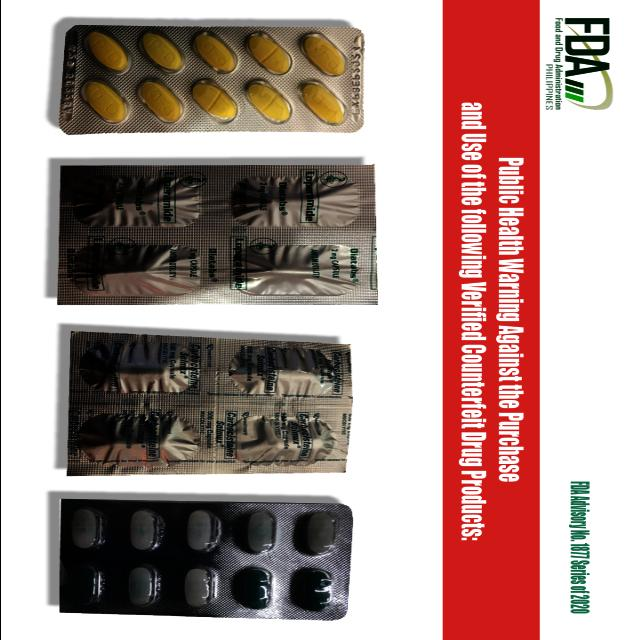counterfeit: (48, 160, 380, 308), (58, 332, 366, 476), (54, 15, 377, 139), (48, 499, 356, 620)
